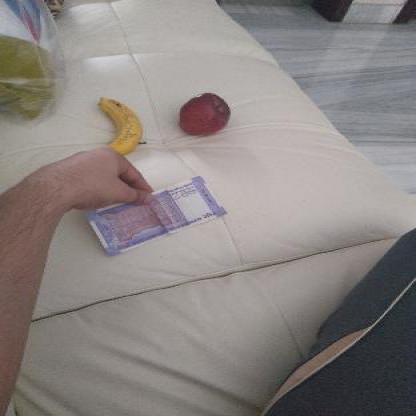New100Back: (86, 177, 229, 254)
